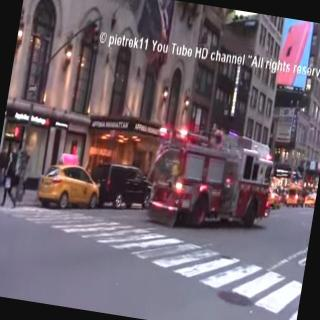Fire_truck: (141, 116, 282, 242)
